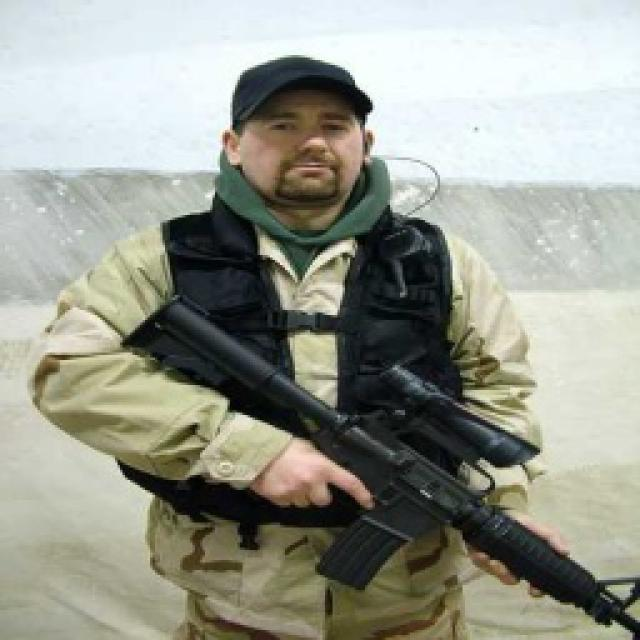long weapon: (102, 302, 638, 638)
